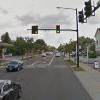Traffic light: (72, 2, 100, 30)
